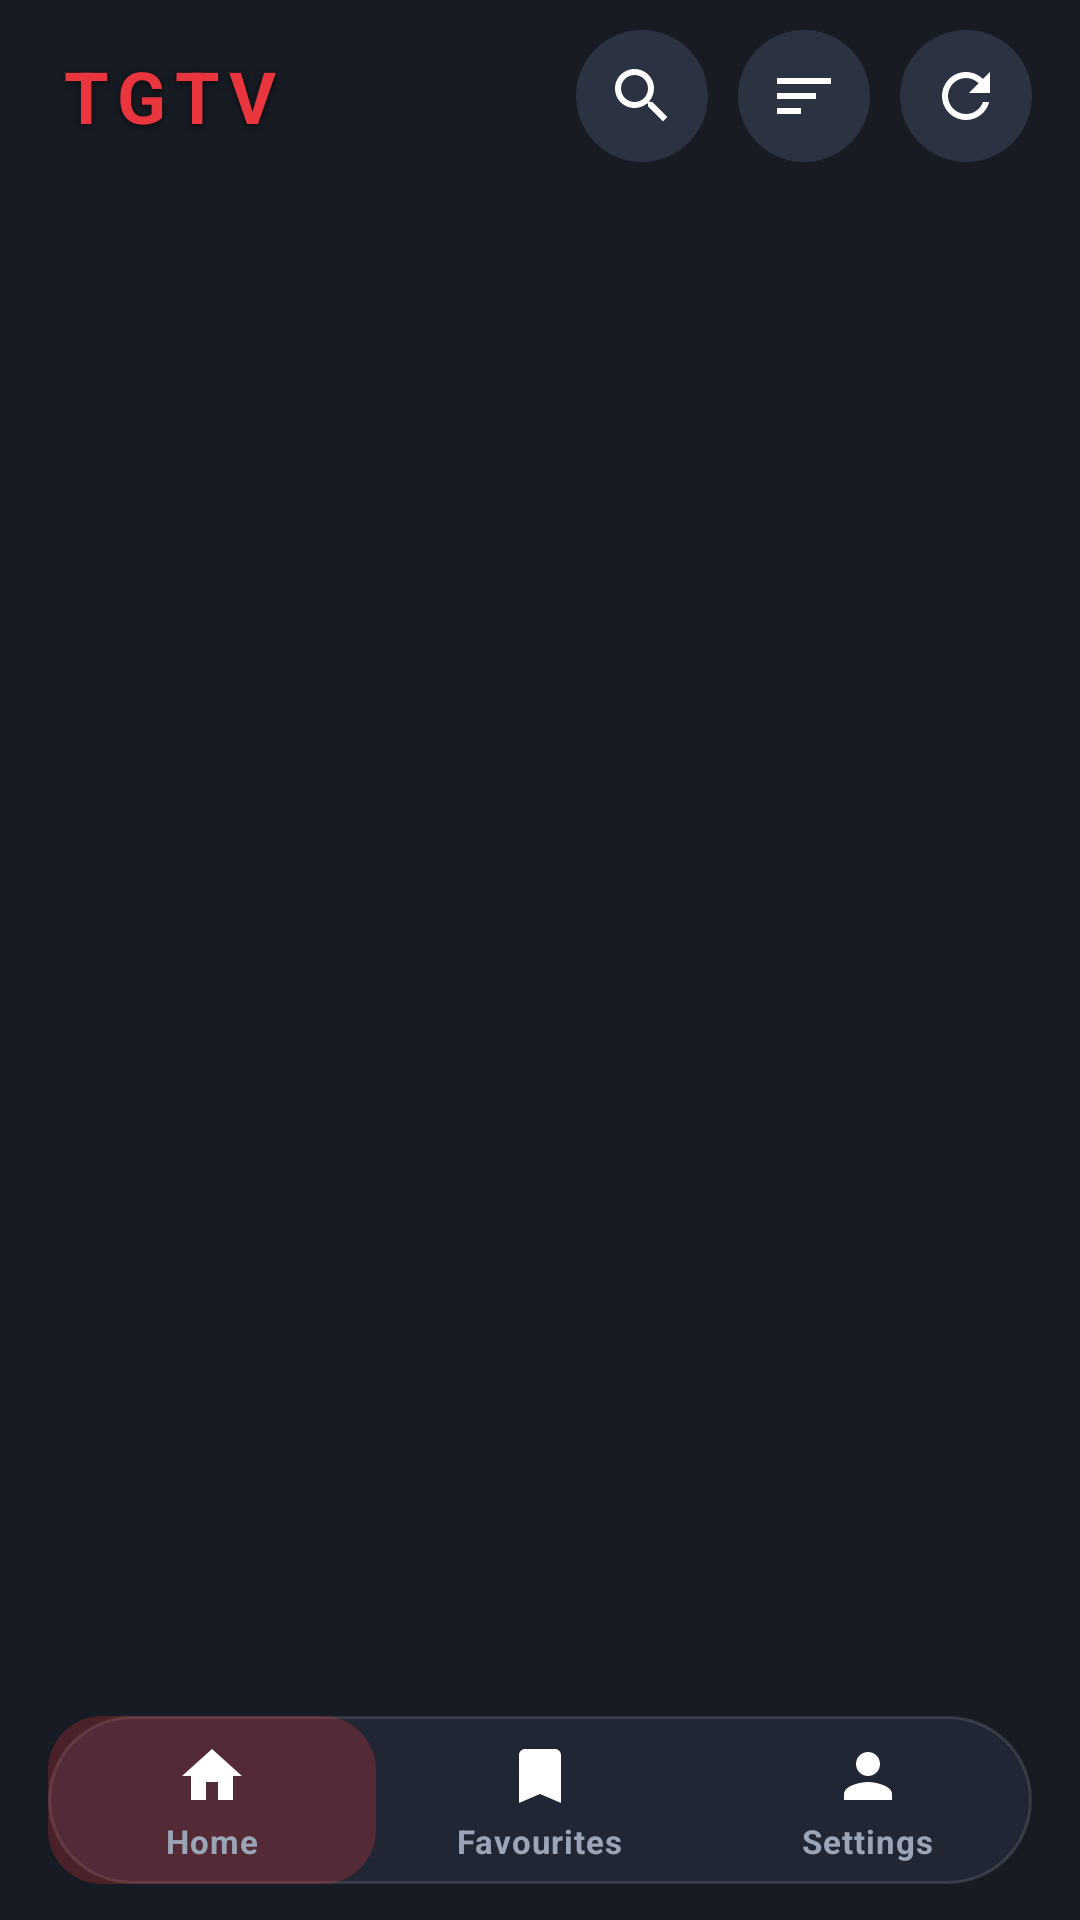

Where icons sit on this 1080 × 1920 app screen, as region(x1, y1, x2, y2):
Refresh: region(900, 30, 1032, 162)
Search library: region(576, 30, 708, 162)
Sort library: region(738, 30, 870, 162)
